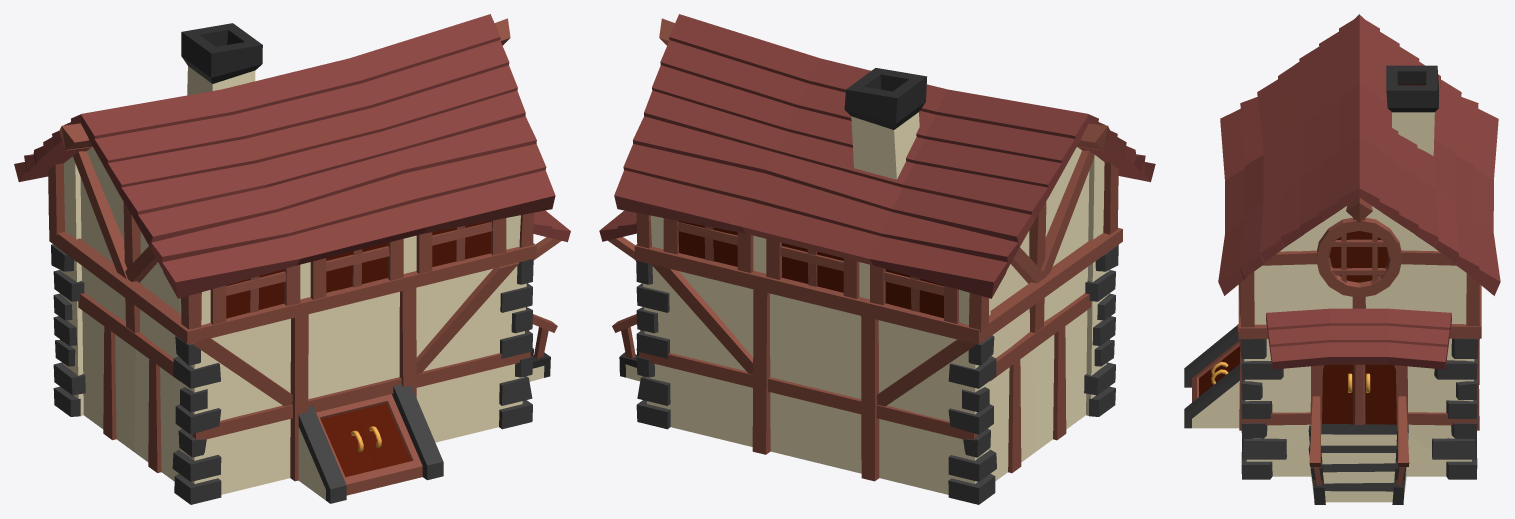
The model's file is House_1.glb.
3 views of the same model, side by side, from view 1: azimuth 30°, elevation 25°; view 2: azimuth 150°, elevation 25°; view 3: azimuth 270°, elevation 25° (orthographic). The views are drawn at different scales.
Visible parts, largest first — view 1: Cube.013_Medieval_0, Cube.018_Medieval_0, Cube.015_Medieval_0, Cube.017_Medieval_0, Cube.027_Medieval_0, Cube.026_Medieval_0, Cube.025_Medieval_0, Cube.020_Medieval_0, Cube.019_Medieval_0, Cube.023_Medieval_0; view 2: Cube.013_Medieval_0, Cube.018_Medieval_0, Cube.017_Medieval_0, Cube.015_Medieval_0, Cube.025_Medieval_0, Cube.026_Medieval_0, Cube.020_Medieval_0, Cube.019_Medieval_0, Cube.023_Medieval_0; view 3: Cube.013_Medieval_0, Cube.023_Medieval_0, Cube.015_Medieval_0, Cube.024_Medieval_0, Cube.018_Medieval_0, Cube.027_Medieval_0, Cube.025_Medieval_0, Cube.017_Medieval_0, Cylinder_Medieval_0, Cube.016_Medieval_0, Cube.019_Medieval_0.
Boxes of the visible parts, x1=… form: Cube.013_Medieval_0: x1=14, y1=14, x2=555, y2=494; Cube.018_Medieval_0: x1=48, y1=151, x2=537, y2=472; Cube.015_Medieval_0: x1=51, y1=244, x2=533, y2=504; Cube.017_Medieval_0: x1=60, y1=237, x2=561, y2=481; Cube.027_Medieval_0: x1=298, y1=384, x2=443, y2=503; Cube.026_Medieval_0: x1=210, y1=218, x2=506, y2=324; Cube.025_Medieval_0: x1=181, y1=23, x2=262, y2=95; Cube.020_Medieval_0: x1=78, y1=293, x2=179, y2=380; Cube.019_Medieval_0: x1=59, y1=18, x2=510, y2=150; Cube.023_Medieval_0: x1=533, y1=210, x2=570, y2=242; Cube.013_Medieval_0: x1=614, y1=14, x2=1155, y2=494; Cube.018_Medieval_0: x1=634, y1=150, x2=1122, y2=473; Cube.017_Medieval_0: x1=608, y1=237, x2=1109, y2=481; Cube.015_Medieval_0: x1=636, y1=244, x2=1118, y2=504; Cube.025_Medieval_0: x1=844, y1=68, x2=927, y2=179; Cube.026_Medieval_0: x1=663, y1=218, x2=958, y2=323; Cube.020_Medieval_0: x1=990, y1=293, x2=1091, y2=380; Cube.019_Medieval_0: x1=659, y1=18, x2=1110, y2=150; Cube.023_Medieval_0: x1=599, y1=210, x2=636, y2=241; Cube.013_Medieval_0: x1=1218, y1=16, x2=1500, y2=476; Cube.023_Medieval_0: x1=1266, y1=308, x2=1451, y2=369; Cube.015_Medieval_0: x1=1241, y1=338, x2=1477, y2=479; Cube.024_Medieval_0: x1=1308, y1=424, x2=1408, y2=504; Cube.018_Medieval_0: x1=1238, y1=217, x2=1481, y2=424; Cube.027_Medieval_0: x1=1184, y1=325, x2=1240, y2=428; Cube.025_Medieval_0: x1=1386, y1=65, x2=1438, y2=155; Cube.017_Medieval_0: x1=1237, y1=324, x2=1479, y2=485; Cylinder_Medieval_0: x1=1316, y1=217, x2=1401, y2=297; Cube.016_Medieval_0: x1=1310, y1=365, x2=1408, y2=433; Cube.019_Medieval_0: x1=1346, y1=14, x2=1372, y2=222.
Size of what is drawn, in the model's own units: 6.16 by 4.6 by 4.19.
1 material, 1 textured.
